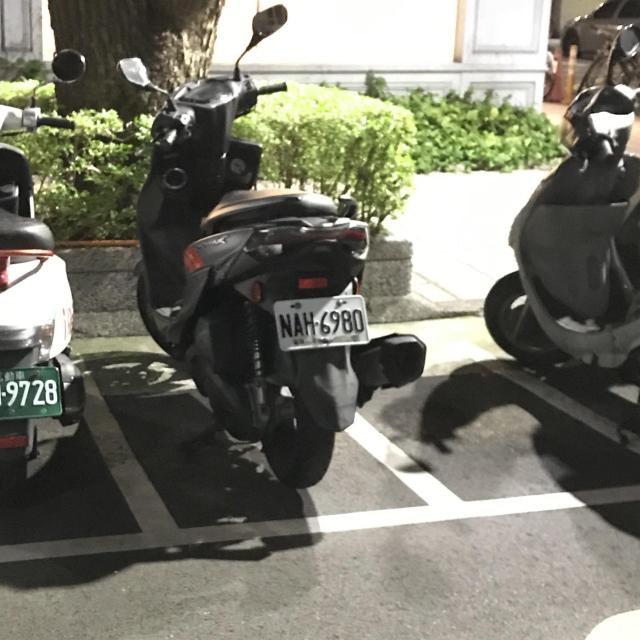W: (264, 283, 380, 358), (0, 361, 69, 425)
